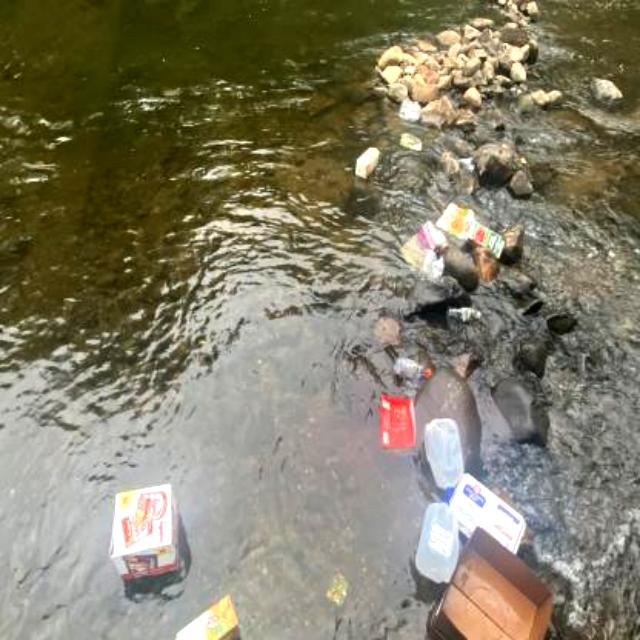Cardboard: (424, 521, 556, 639), (107, 482, 185, 590), (434, 201, 506, 259), (172, 589, 248, 639), (371, 392, 421, 453), (400, 218, 442, 268), (352, 146, 380, 180)
Plastic: (442, 471, 528, 561), (412, 494, 461, 586), (418, 414, 466, 498), (389, 356, 435, 380)
